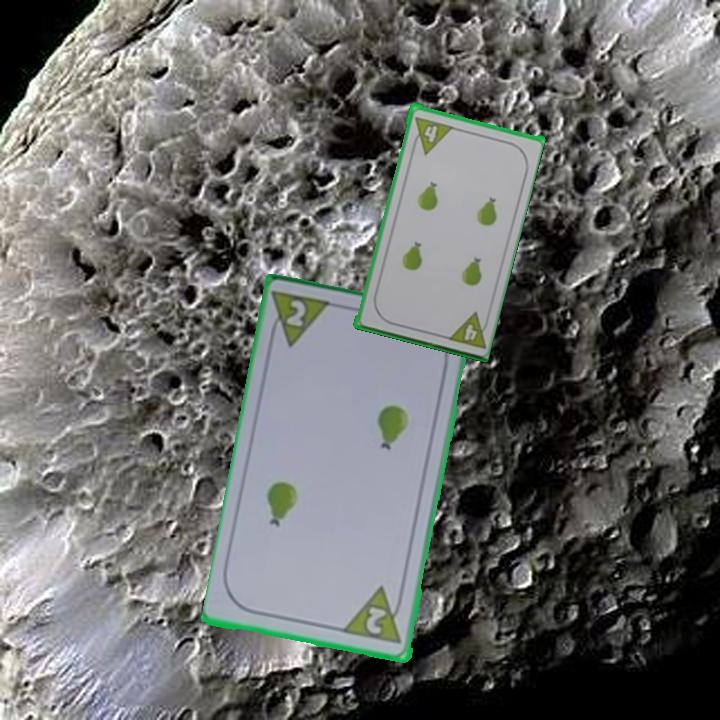2p: (265, 287, 336, 352), (362, 604, 390, 638)
4p: (442, 308, 493, 352), (408, 113, 455, 156)
